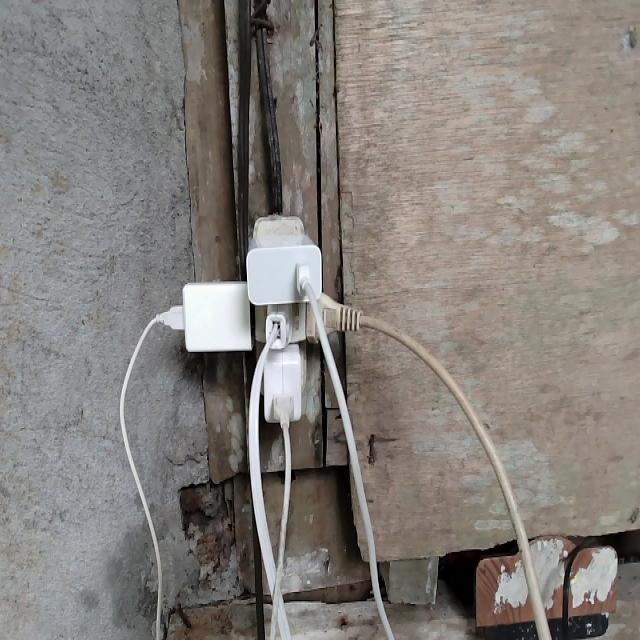-: (154, 213, 377, 430)
